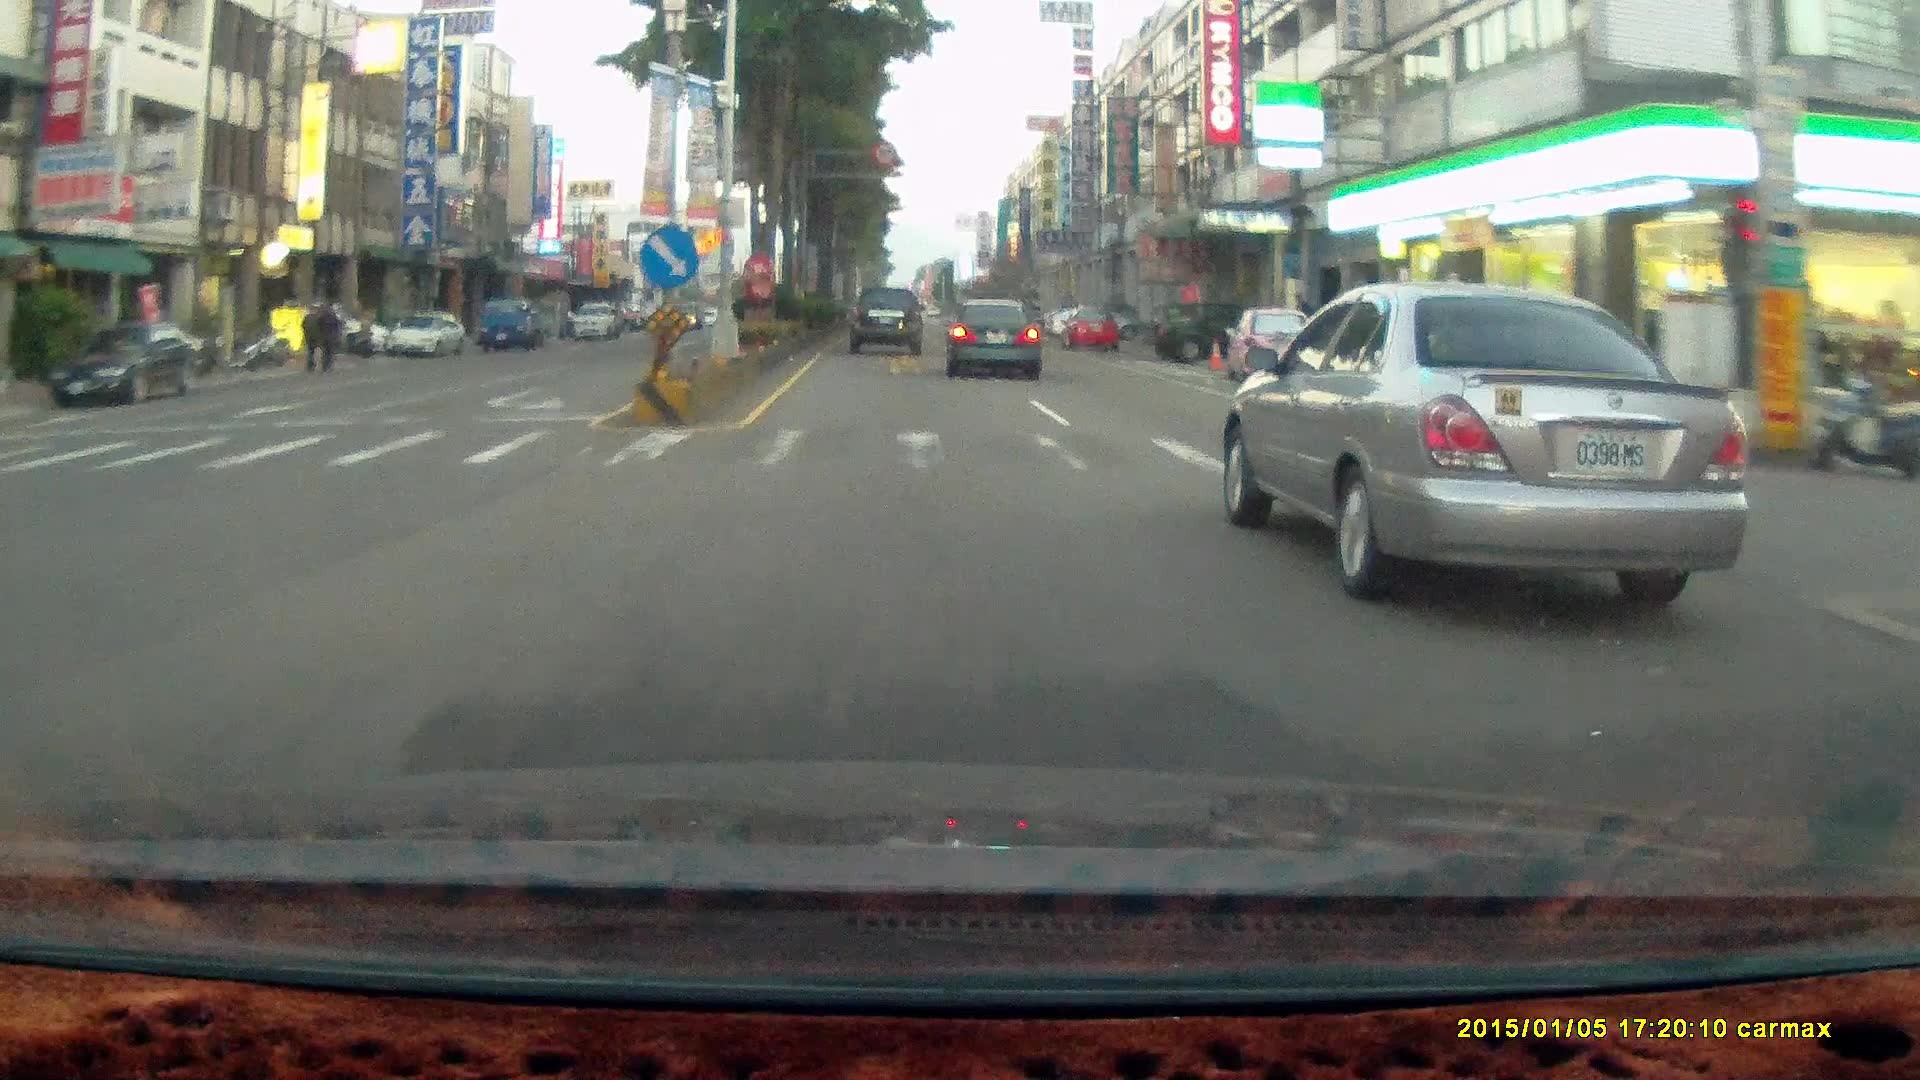pedestrian: (311, 295, 339, 370), (315, 299, 343, 371), (298, 296, 323, 369), (298, 305, 321, 371)
vehicle: (1227, 286, 1749, 625), (1497, 318, 1672, 464), (48, 321, 203, 405), (56, 317, 203, 400), (948, 302, 1046, 383), (946, 296, 1040, 377), (1231, 303, 1322, 380), (1144, 299, 1250, 364), (1223, 302, 1312, 372), (1144, 297, 1238, 363), (848, 287, 927, 360), (846, 286, 923, 356), (482, 295, 561, 350), (388, 310, 469, 361), (477, 297, 545, 352), (386, 311, 465, 356), (1059, 302, 1116, 349), (1068, 299, 1122, 348), (572, 299, 621, 336)
